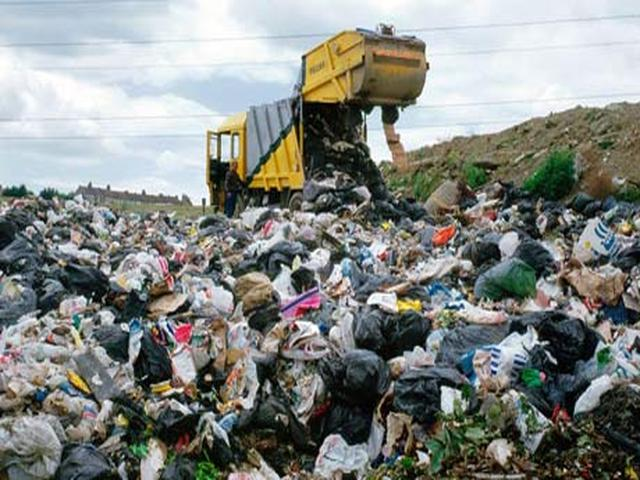garbage: (18, 240, 552, 419)
